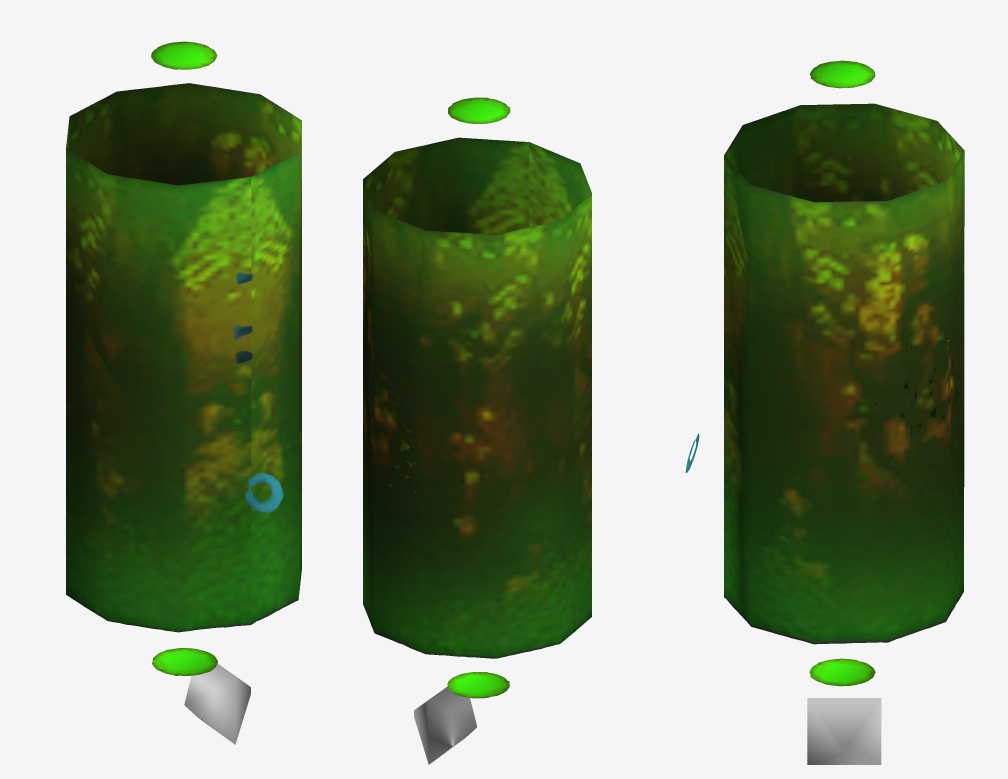
File: healthvial.obj
3 views of the same model, side by side, from view 1: azimuth 30°, elevation 25°; view 2: azimuth 150°, elevation 25°; view 3: azimuth 270°, elevation 25° (orthographic). The views are drawn at different scales.
Visible parts, largest first — view 1: (null); view 2: (null); view 3: (null).
Boxes of the visible parts, x1,y1,x2,y2 form: (null): [66, 41, 301, 744]; (null): [363, 97, 591, 764]; (null): [685, 60, 964, 764].
Bounding box in the file's own units: 3.99 × 10.79 × 4.41.
